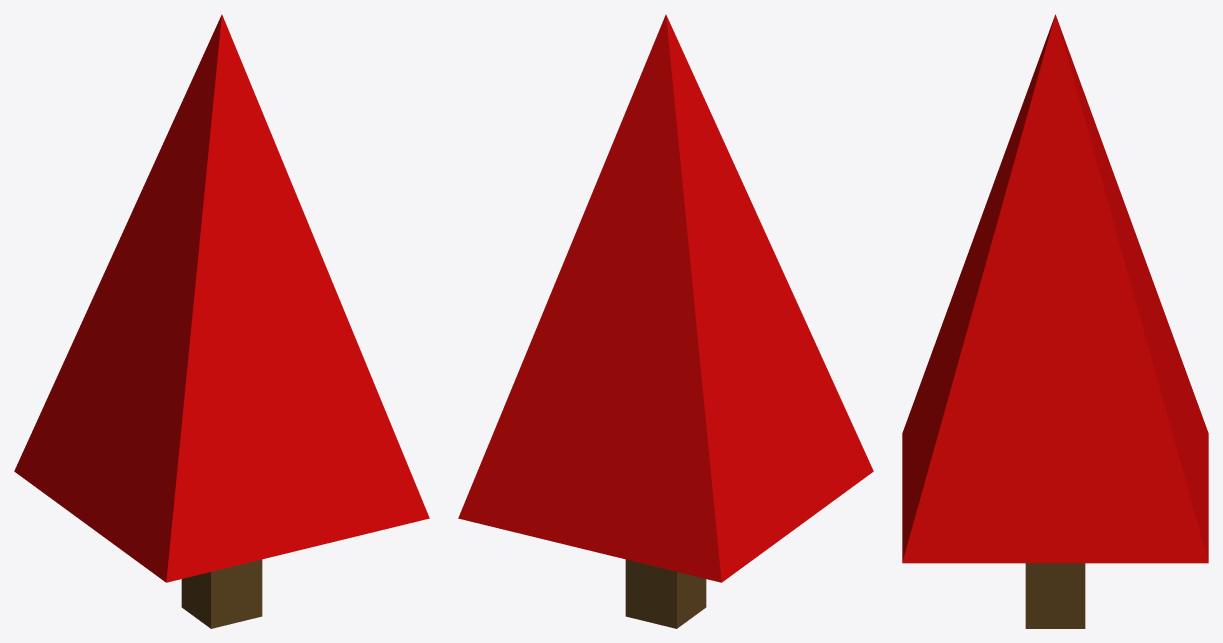
Rendered from 055 Xmas_Tree.fbx.
The picture shows the model from 3 angles, left to right: view 1: azimuth 30°, elevation 25°; view 2: azimuth 150°, elevation 25°; view 3: azimuth 270°, elevation 25°; orthographic projection.
Parts seen in each view (by area): view 1: Lowpoly_Christmas_Pack_055:pCube1; view 2: Lowpoly_Christmas_Pack_055:pCube1; view 3: Lowpoly_Christmas_Pack_055:pCube1.
Boxes of the visible parts, <box> form: Lowpoly_Christmas_Pack_055:pCube1: <box>14,14,429,628</box>; Lowpoly_Christmas_Pack_055:pCube1: <box>458,14,873,628</box>; Lowpoly_Christmas_Pack_055:pCube1: <box>902,14,1208,628</box>.
Size of the model in its own units: 1 by 2.17 by 1.
